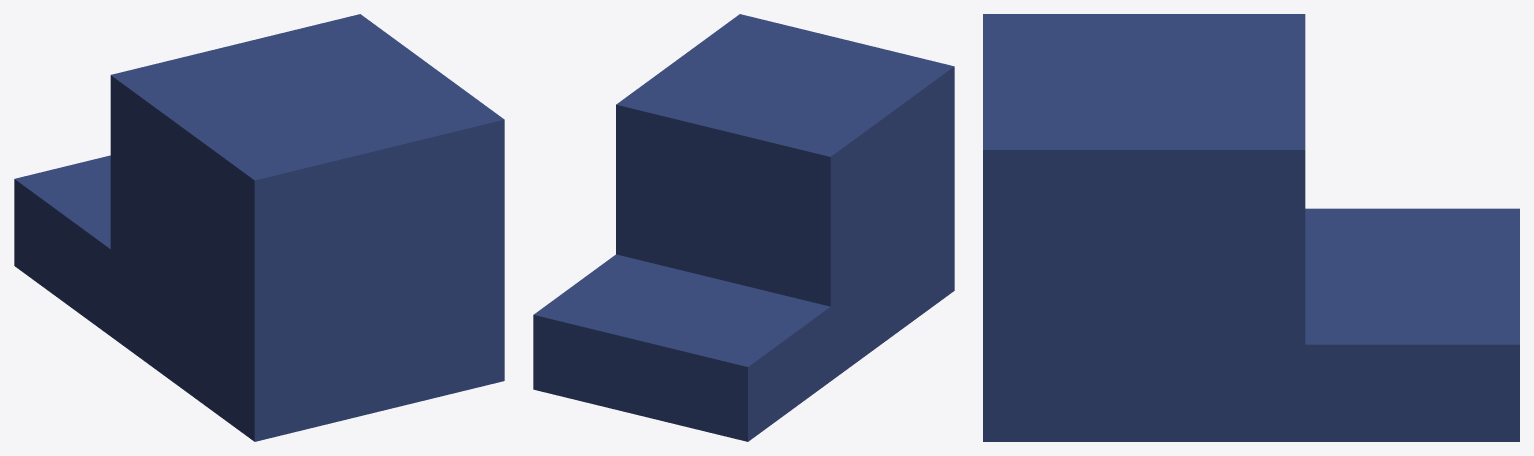
Rendered from Hat_03.dae.
3 renders of one model, left to right at view 1: azimuth 30°, elevation 25°; view 2: azimuth 150°, elevation 25°; view 3: azimuth 270°, elevation 25°, orthographic. The views are drawn at different scales.
Parts seen in each view (by area): view 1: Hat_03; view 2: Hat_03; view 3: Hat_03.
Part boxes in pixels (box(x1,y1,x2,y2)): Hat_03: box(14, 14, 504, 441); Hat_03: box(533, 14, 954, 441); Hat_03: box(983, 14, 1519, 441).
Bounding box in the file's own units: 0.3 × 0.3 × 0.5.
Materials: 1 (1 with a texture image).
